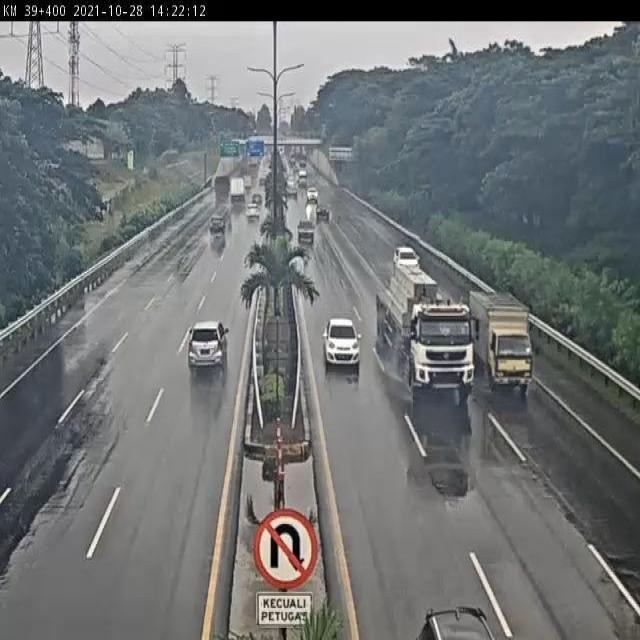car: (187, 317, 230, 375), (322, 313, 362, 371), (392, 241, 421, 271), (207, 210, 228, 234)
small truck: (471, 290, 536, 394)
truck-xl-: (375, 264, 470, 391)
